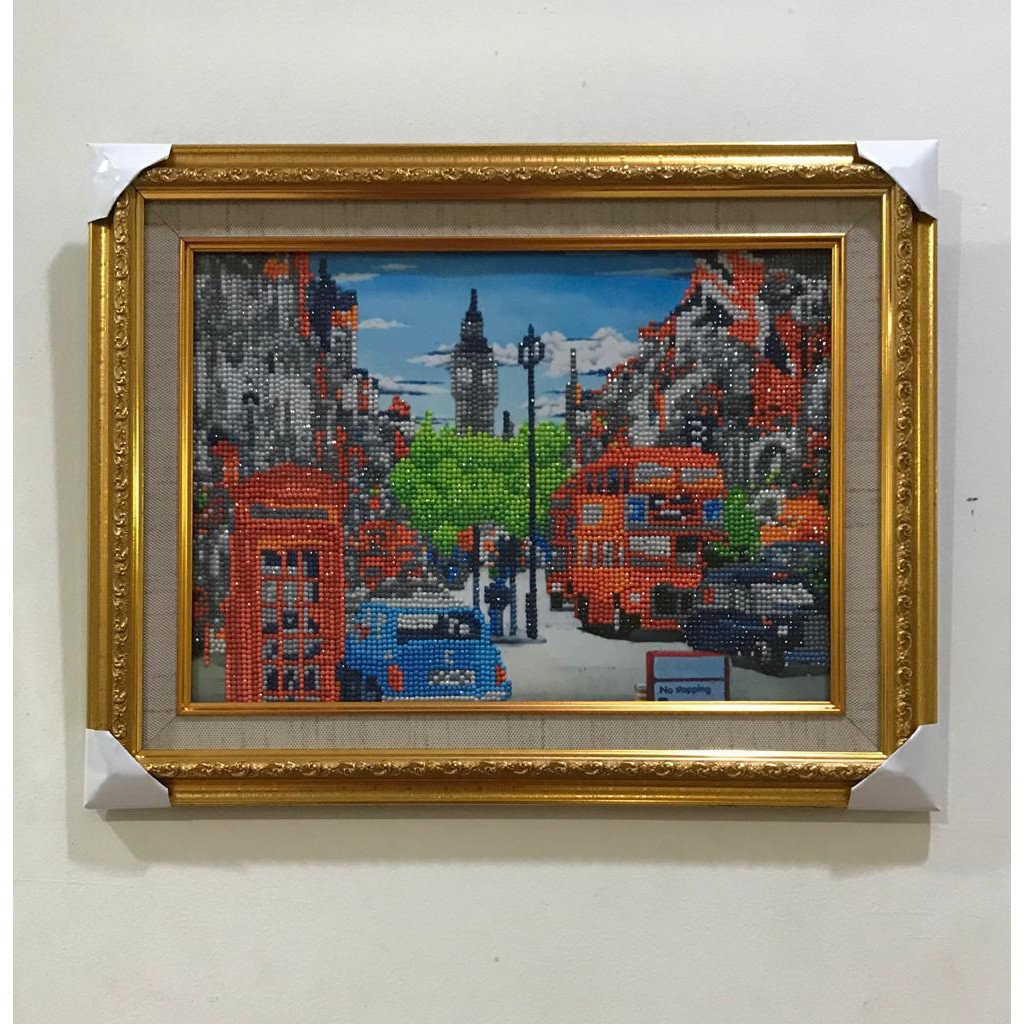lukisan: (80, 137, 949, 815)
